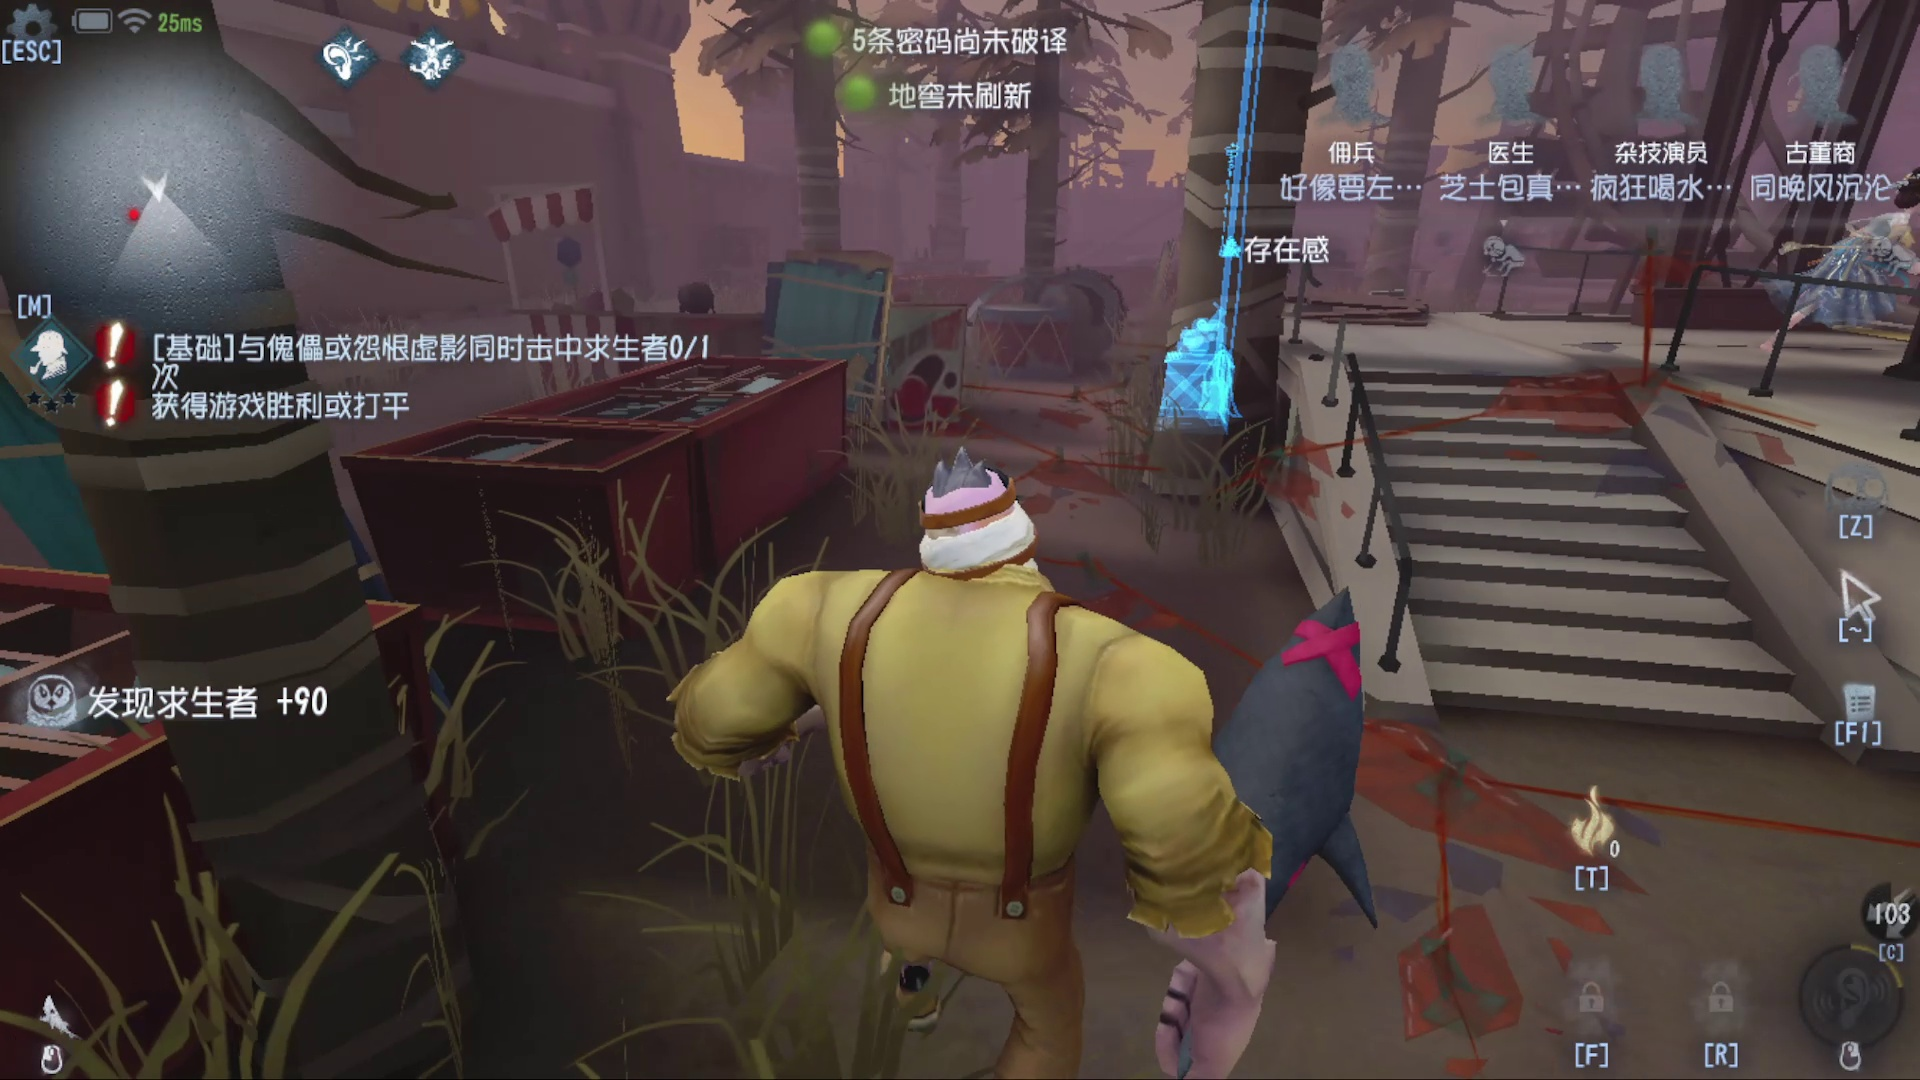密码机: (1143, 3, 1288, 448)
木板: (729, 236, 907, 430)
脚印: (972, 363, 1141, 484)
